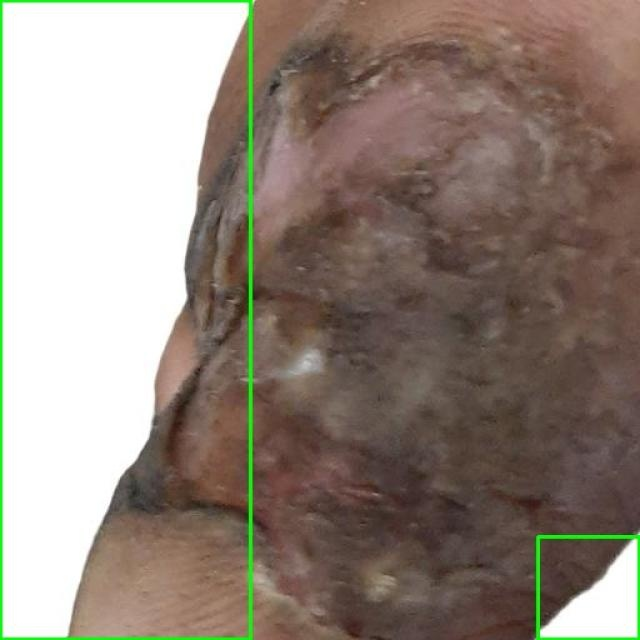Contact Dermatitis: (0, 0, 250, 639), (538, 536, 639, 639)
